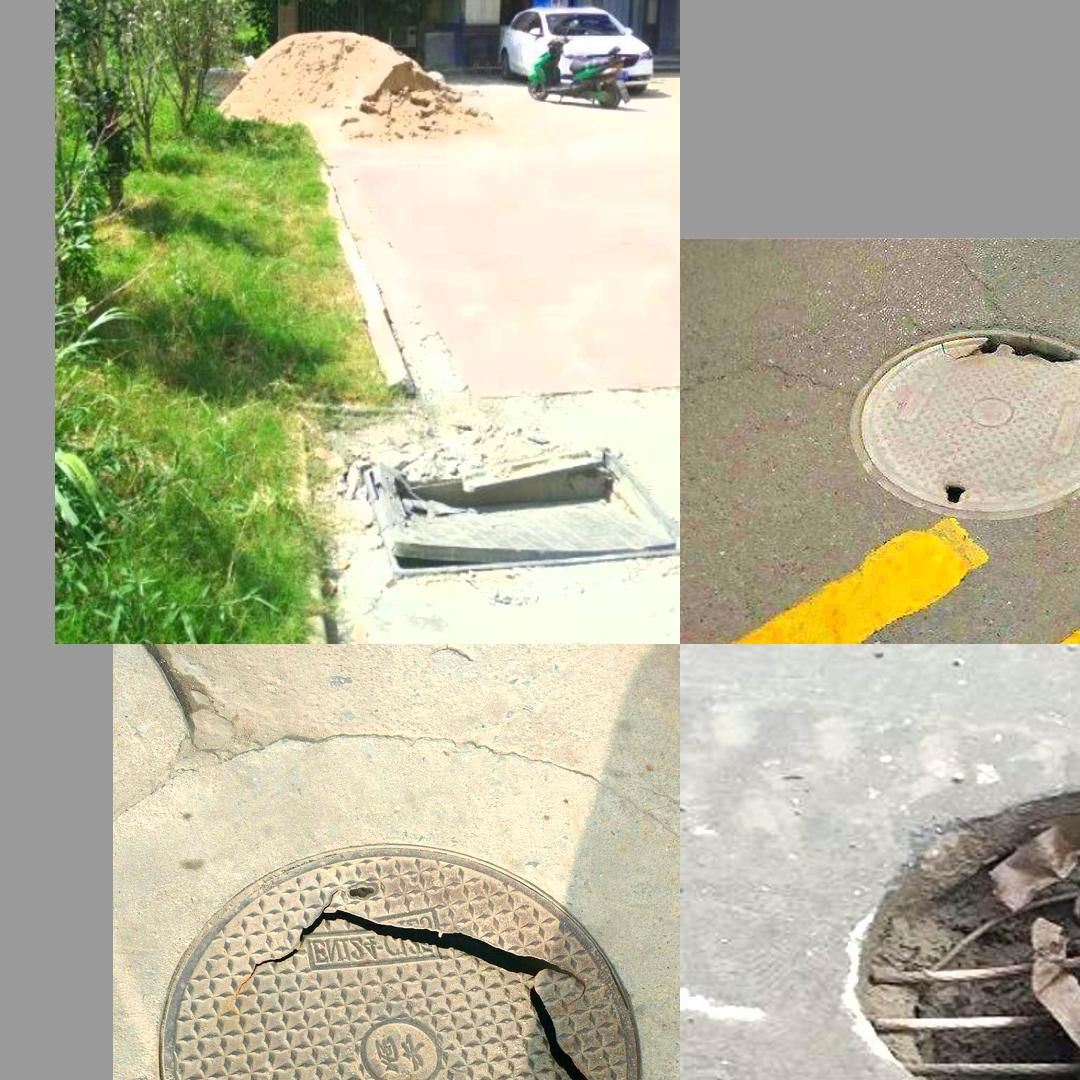broke: (156, 842, 642, 1080), (825, 740, 1080, 1080), (850, 328, 1080, 520), (350, 449, 675, 560)
